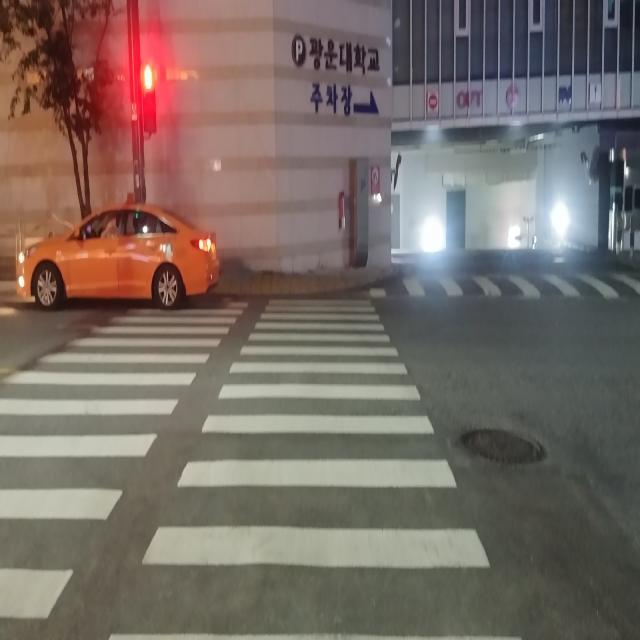횡단보도: (0, 294, 527, 640), (356, 273, 640, 304), (142, 63, 160, 139)
